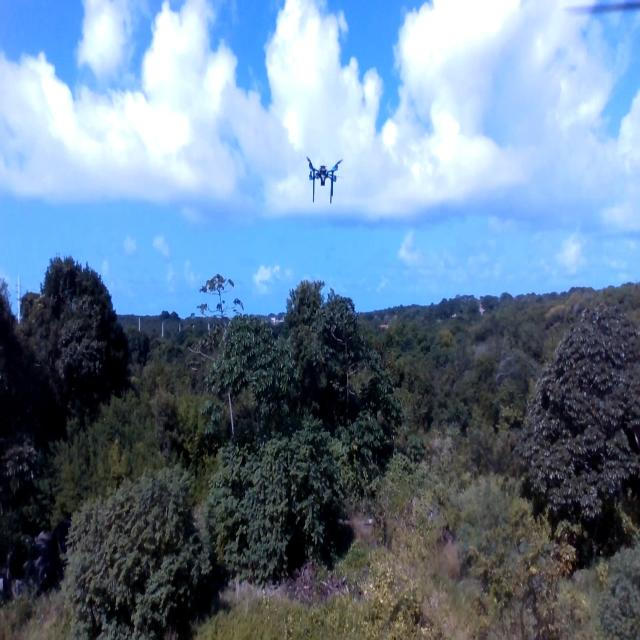-uav-: (294, 135, 347, 219)
